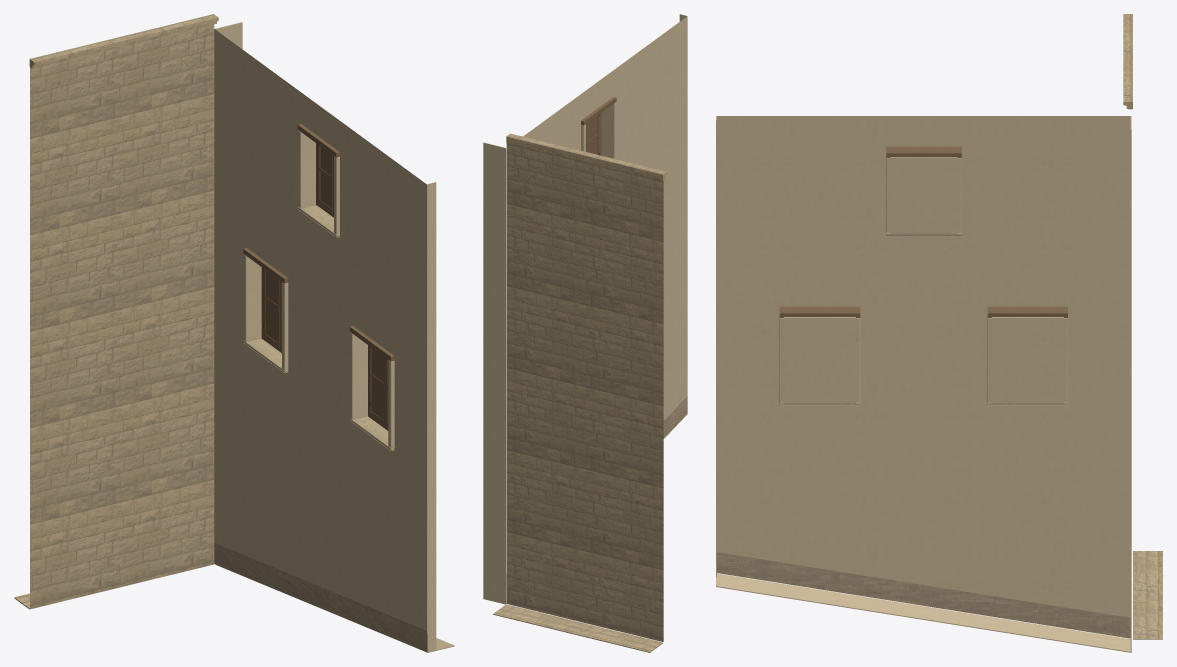
Rendered from fountain-receivers-tea-ramp.glb.
3 views of the same model, side by side, from view 1: azimuth 30°, elevation 25°; view 2: azimuth 150°, elevation 25°; view 3: azimuth 270°, elevation 25° (orthographic). The views are drawn at different scales.
Parts seen in each view (by area): view 1: bz06_dressed_sandstone.005-cast, bz06_cream_plaster.001-cast, bz04_craft_warm_timber.003-cast, bz06_service_stone-cast, bz06_monolithic_stone_trim.003-cast; view 2: bz06_dressed_sandstone.005-cast, bz06_cream_plaster.001-cast, bz04_craft_warm_timber.003-cast, bz06_service_stone-cast; view 3: bz06_cream_plaster.001-cast, bz06_service_stone-cast, bz06_dressed_sandstone.005-cast, bz04_craft_warm_timber.003-cast, bz06_monolithic_stone_trim.003-cast.
Part boxes in pixels (x1,y1,x2,y2): bz06_dressed_sandstone.005-cast: (14, 14, 218, 609); bz06_cream_plaster.001-cast: (214, 22, 454, 652); bz04_craft_warm_timber.003-cast: (243, 124, 394, 430); bz06_service_stone-cast: (214, 543, 427, 651); bz06_monolithic_stone_trim.003-cast: (243, 205, 394, 451); bz06_dressed_sandstone.005-cast: (493, 133, 667, 652); bz06_cream_plaster.001-cast: (483, 14, 687, 604); bz04_craft_warm_timber.003-cast: (581, 97, 616, 155); bz06_service_stone-cast: (663, 396, 687, 438); bz06_cream_plaster.001-cast: (716, 116, 1131, 652); bz06_service_stone-cast: (717, 552, 1130, 638); bz06_dressed_sandstone.005-cast: (1123, 14, 1162, 639); bz04_craft_warm_timber.003-cast: (779, 146, 1067, 317); bz06_monolithic_stone_trim.003-cast: (779, 233, 1067, 405).
Bounding box in the file's own units: 4.6 × 11.42 × 8.6.
Materials: 6 (6 with a texture image).
